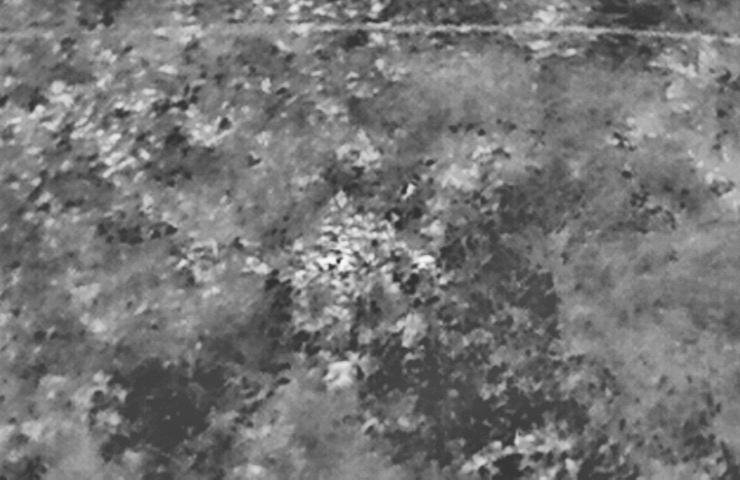landmines: (297, 198, 435, 308)
